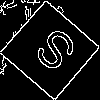S: (25, 25, 80, 82)
